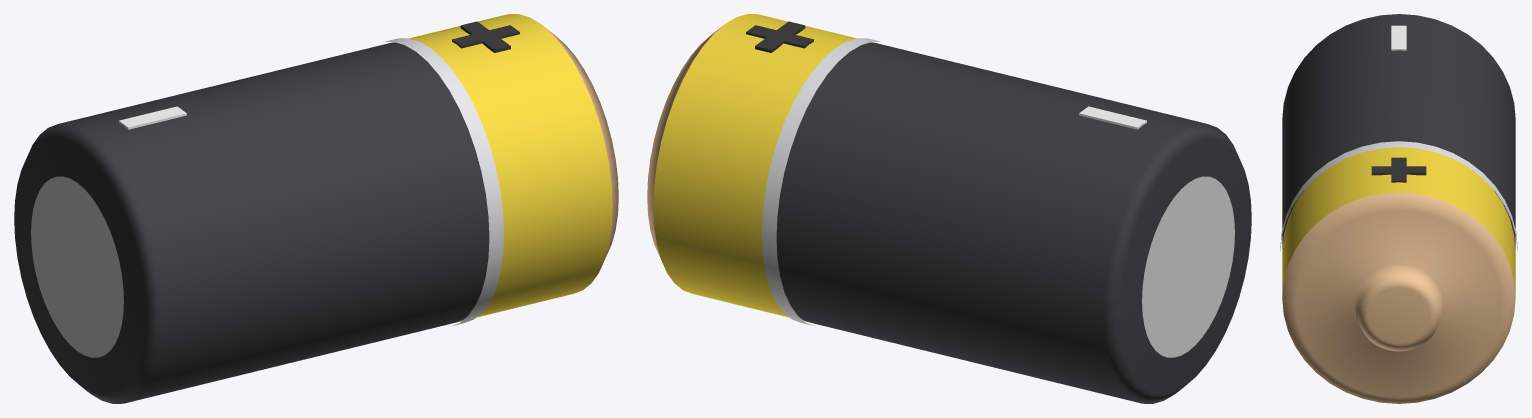
The model's file is battery.glb.
The picture shows the model from 3 angles, left to right: view 1: azimuth 30°, elevation 25°; view 2: azimuth 150°, elevation 25°; view 3: azimuth 270°, elevation 25°; orthographic projection. The views are drawn at different scales.
Parts seen in each view (by area): view 1: Battery; view 2: Battery; view 3: Battery.
Boxes of the visible parts, left/top/right/bottom form: Battery: left=14, top=14, right=618, bottom=403; Battery: left=647, top=14, right=1251, bottom=403; Battery: left=1280, top=14, right=1517, bottom=403.
Bounding box in the file's own units: 0.1386 × 0.0692 × 0.0692.
